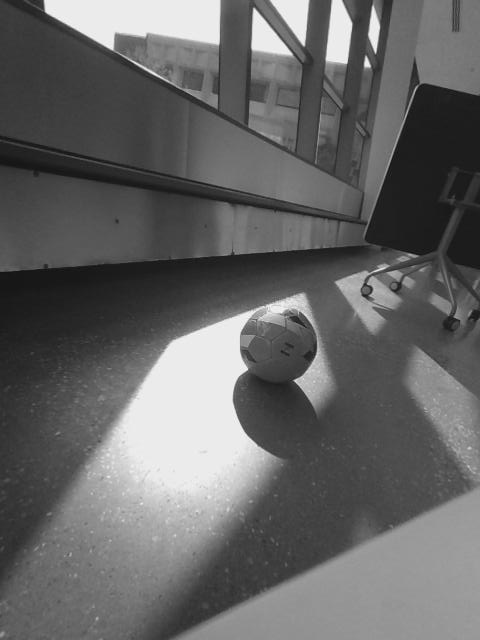ball: (237, 302, 319, 386)
